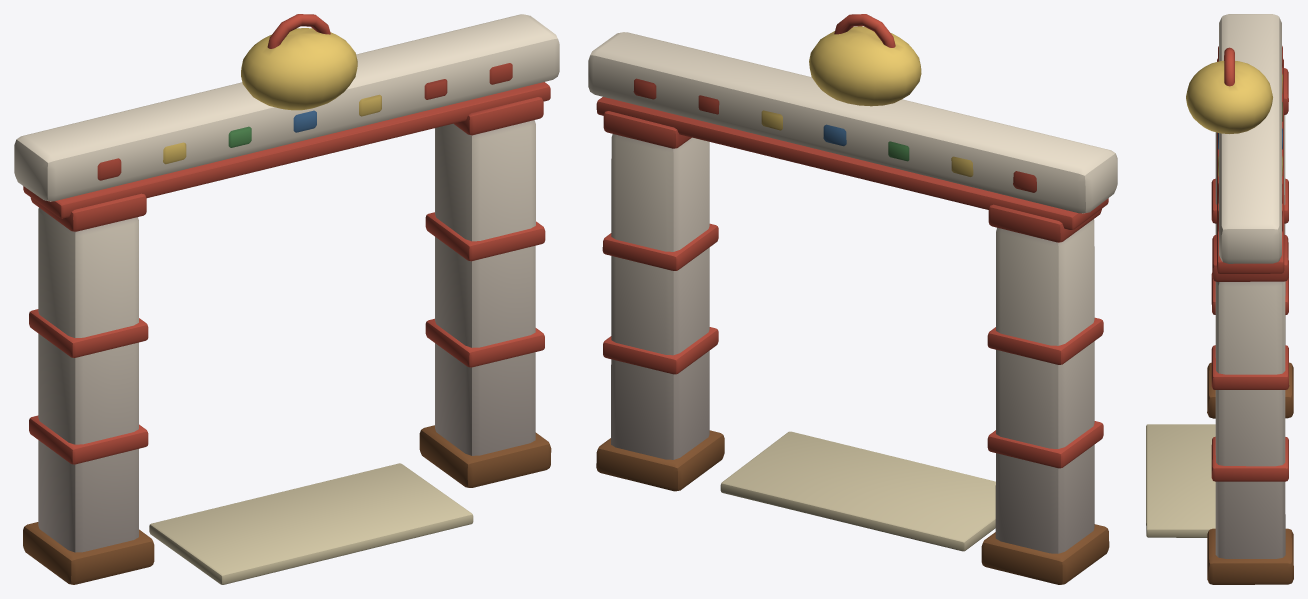
The picture shows the model from 3 angles, left to right: view 1: azimuth 30°, elevation 25°; view 2: azimuth 150°, elevation 25°; view 3: azimuth 270°, elevation 25°; orthographic projection. The views are drawn at different scales.
Parts seen in each view (by area): view 1: gate_b8fbac79; view 2: gate_b8fbac79; view 3: gate_b8fbac79.
Part boxes in pixels (<box>): gate_b8fbac79: <box>14,14,559,584</box>; gate_b8fbac79: <box>588,14,1117,584</box>; gate_b8fbac79: <box>1146,14,1293,584</box>.
Bounding box in the file's own units: 4.92 × 4.6 × 1.42.
